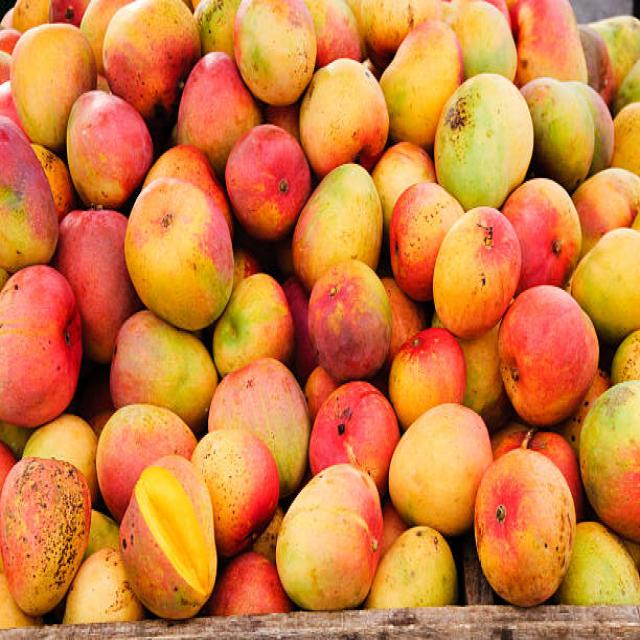mango: (125, 177, 234, 331), (475, 447, 576, 605), (120, 454, 215, 618), (276, 464, 382, 610), (0, 458, 91, 615), (498, 285, 599, 426), (209, 358, 311, 496), (52, 209, 142, 363), (389, 403, 492, 535), (0, 266, 82, 427), (110, 311, 218, 432), (434, 77, 531, 209), (104, 0, 201, 128), (96, 403, 196, 521), (432, 207, 521, 338), (292, 164, 382, 291), (191, 428, 279, 556), (10, 23, 96, 152), (380, 21, 464, 152), (299, 58, 389, 178), (309, 381, 400, 496), (66, 90, 154, 208), (178, 53, 261, 178), (309, 260, 391, 382), (225, 124, 311, 240), (580, 381, 640, 542), (0, 117, 59, 272), (502, 179, 581, 293), (390, 183, 464, 301), (234, 0, 316, 105), (212, 273, 295, 376), (521, 77, 594, 189), (142, 147, 232, 236), (571, 228, 640, 344), (389, 328, 466, 429), (365, 526, 458, 609), (555, 522, 640, 605), (24, 413, 99, 504), (512, 0, 588, 88), (64, 546, 145, 623), (372, 141, 436, 238), (571, 168, 640, 255), (208, 552, 292, 615)
